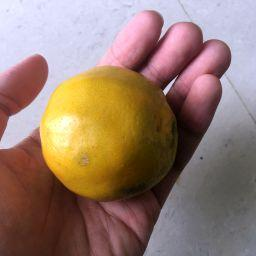Ripe: (40, 67, 173, 194)
